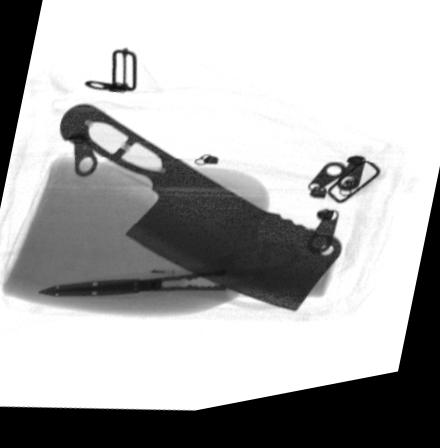Knife: (56, 106, 340, 323)
Scissors: (38, 251, 298, 320)
